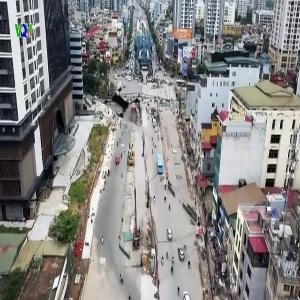drone: (97, 84, 143, 130)
